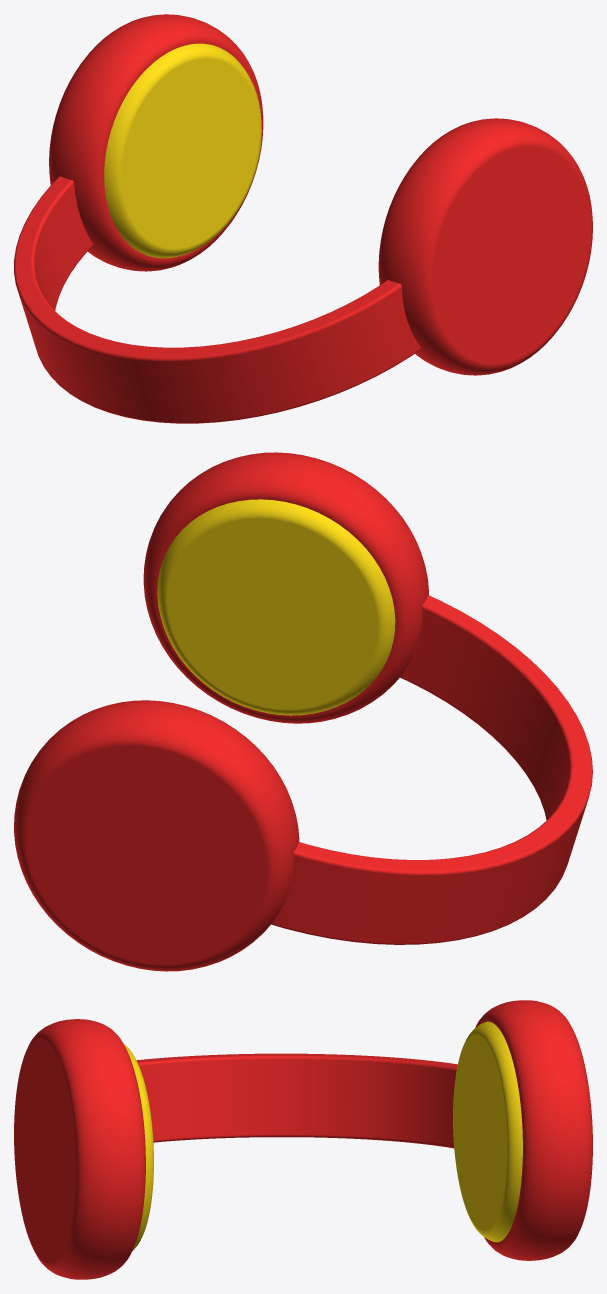
Rendered from ttc-explainer-poc-headphones.glb.
The picture shows the model from 3 angles, top to bottom: view 1: azimuth 30°, elevation 25°; view 2: azimuth 150°, elevation 25°; view 3: azimuth 270°, elevation 25°; orthographic projection. The views are drawn at different scales.
Parts seen in each view (by area): view 1: Cylinder, Box - baked, Cylinder 3, Cylinder 1; view 2: Cylinder 1, Box - baked, Cylinder 2, Cylinder; view 3: Cylinder, Box - baked, Cylinder 1, Cylinder 3, Cylinder 2.
Boxes of the visible parts, bbox=[...] form: Cylinder: bbox=[378, 118, 592, 375]; Box - baked: bbox=[14, 176, 421, 423]; Cylinder 3: bbox=[104, 43, 261, 258]; Cylinder 1: bbox=[49, 14, 263, 271]; Cylinder 1: bbox=[14, 700, 299, 971]; Box - baked: bbox=[271, 595, 592, 944]; Cylinder 2: bbox=[157, 499, 395, 715]; Cylinder: bbox=[143, 452, 428, 723]; Cylinder: bbox=[14, 1019, 145, 1279]; Box - baked: bbox=[136, 1053, 457, 1148]; Cylinder 1: bbox=[475, 1000, 592, 1260]; Cylinder 3: bbox=[453, 1021, 522, 1242]; Cylinder 2: bbox=[123, 1043, 153, 1251].
Bounding box in the file's own units: 0.1511 × 0.0862 × 0.1679.
